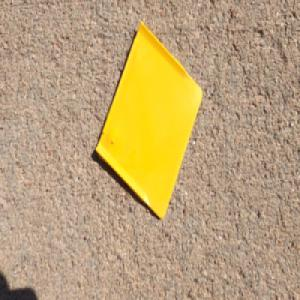PlasticPart: (93, 21, 201, 222)
